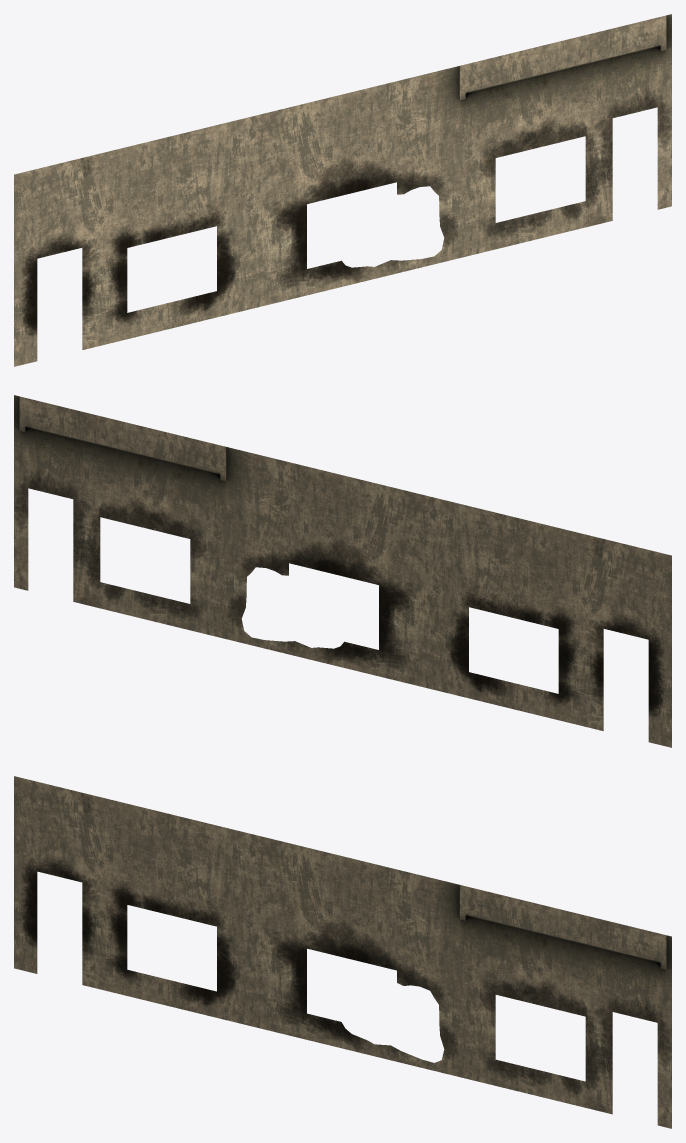
File: ExtWall_Broken.FBX
3 renders of one model, top to bottom at view 1: azimuth 30°, elevation 25°; view 2: azimuth 150°, elevation 25°; view 3: azimuth 330°, elevation 25°, orthographic.
Parts seen in each view (by area): view 1: ExtWall_Broken; view 2: ExtWall_Broken; view 3: ExtWall_Broken.
Boxes of the visible parts, x1,y1,x2,y2 form: ExtWall_Broken: (14, 14, 671, 366); ExtWall_Broken: (14, 395, 671, 747); ExtWall_Broken: (14, 776, 671, 1128).
Size of the model in its own units: 1830 by 511 by 0.000244.
1 material, 1 textured.
